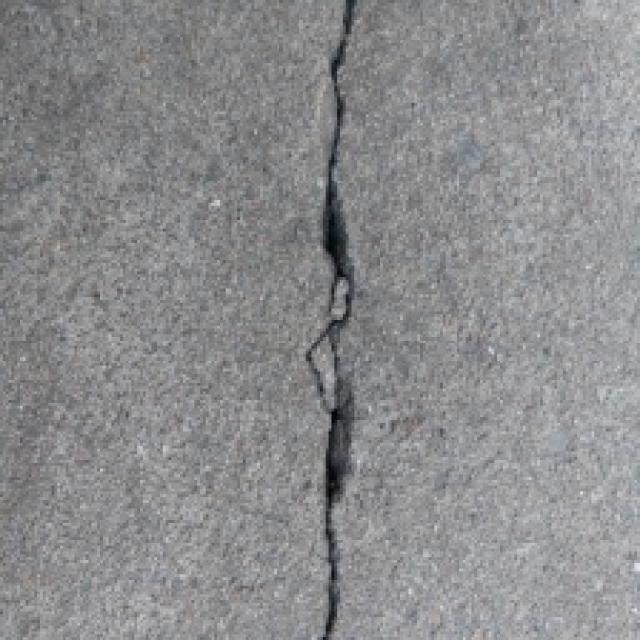SurfaceCrack: (252, 0, 404, 640)
